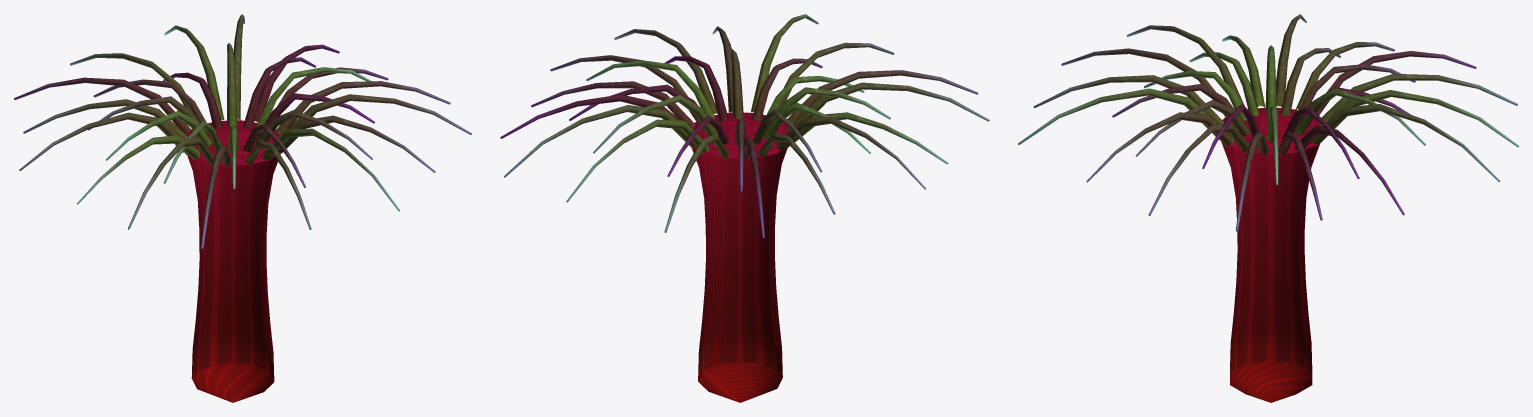
Rendered from aiptasia.glb.
3 views of the same model, side by side, from view 1: azimuth 30°, elevation 25°; view 2: azimuth 150°, elevation 25°; view 3: azimuth 270°, elevation 25° (orthographic). The views are drawn at different scales.
Visible parts, largest first — view 1: Body; view 2: Body; view 3: Body.
Part boxes in pixels (<box>): Body: <box>14,14,471,402</box>; Body: <box>500,14,989,402</box>; Body: <box>1018,14,1518,402</box>.
Size of the model in its own units: 4.65 by 3.52 by 4.85.
1 material, 1 textured.
